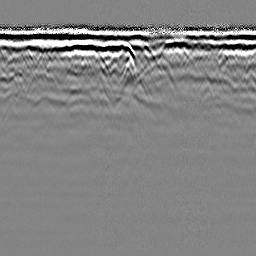cavity: (119, 39, 136, 59)
